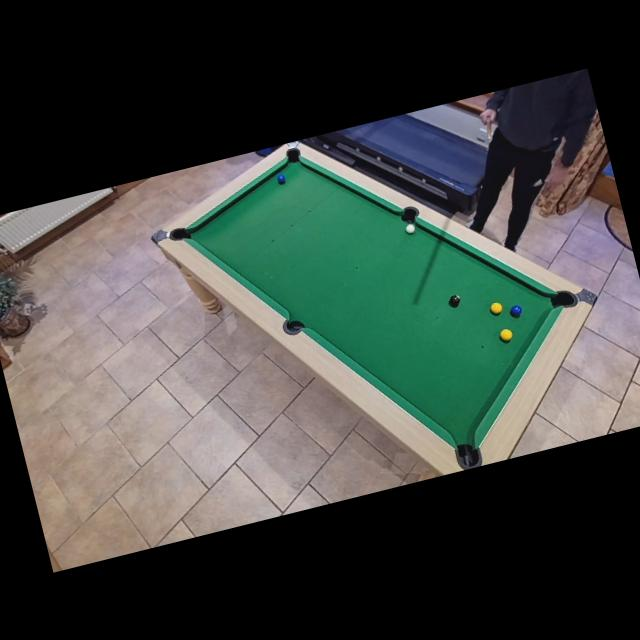Ball: (498, 327, 514, 342), (489, 300, 504, 316), (508, 303, 523, 318), (448, 293, 462, 306), (405, 222, 416, 235), (276, 172, 287, 184)
